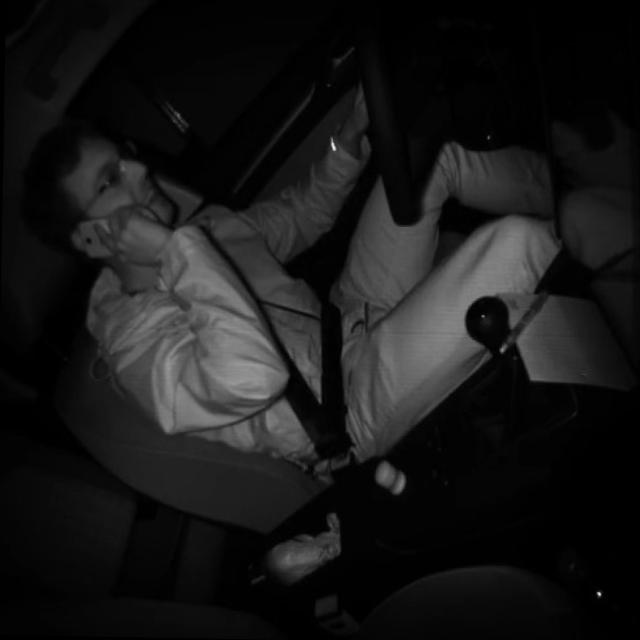pen: (498, 284, 552, 356)
